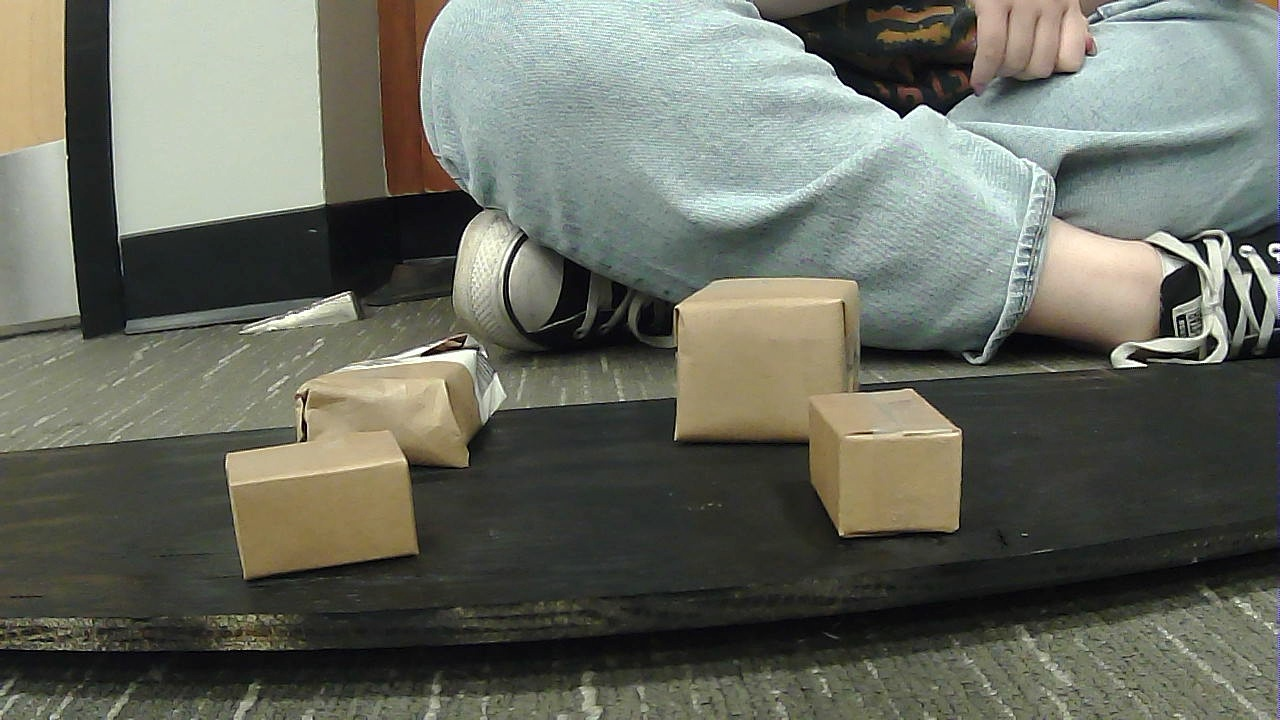package: (667, 276, 889, 456), (273, 327, 549, 465), (218, 431, 448, 585), (784, 388, 990, 535)
